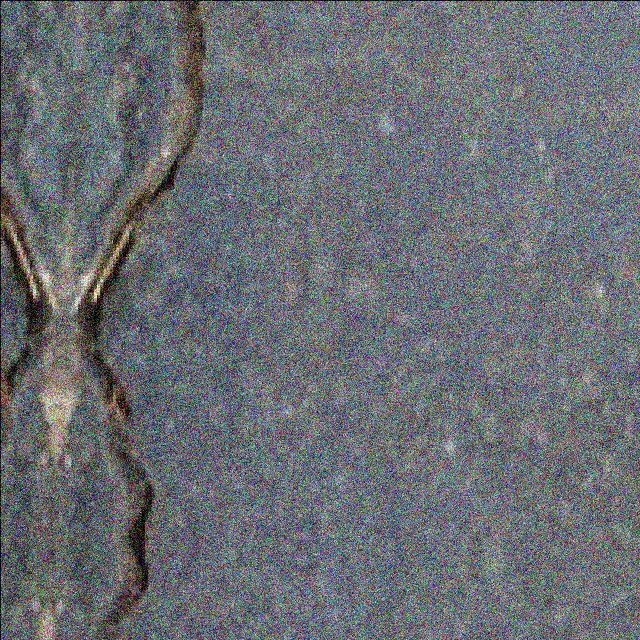SurfaceCrack: (58, 0, 250, 640), (0, 158, 62, 406)
